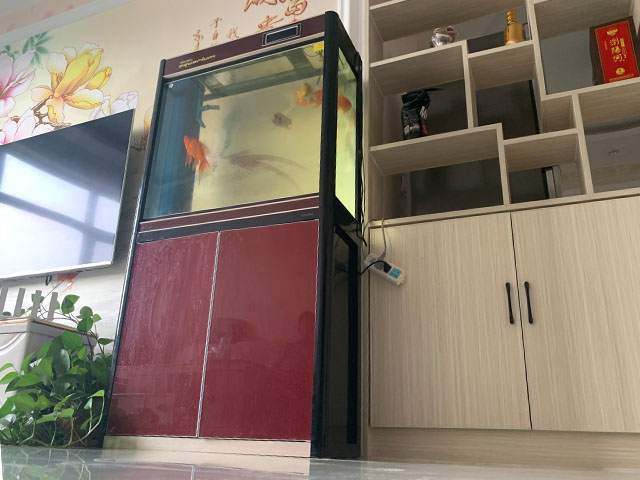cabinet: (362, 185, 640, 471), (101, 191, 361, 461)
wire: (353, 210, 407, 290)
